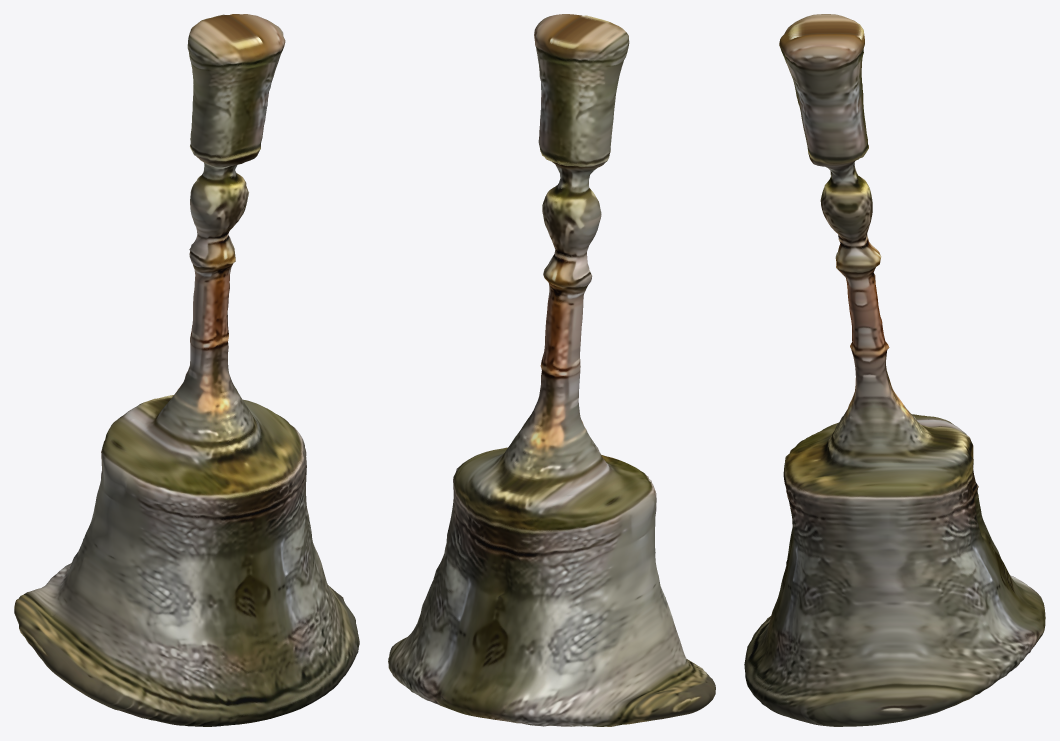
The model's file is kfl-2310.glb.
3 views of the same model, side by side, from view 1: azimuth 30°, elevation 25°; view 2: azimuth 150°, elevation 25°; view 3: azimuth 270°, elevation 25° (orthographic).
Visible parts, largest first — view 1: kfl-2310; view 2: kfl-2310; view 3: kfl-2310.
Part boxes in pixels (x1=…): kfl-2310: x1=14, y1=14, x2=359, y2=726; kfl-2310: x1=388, y1=14, x2=715, y2=726; kfl-2310: x1=744, y1=14, x2=1045, y2=726.
Size of the model in its own units: 0.4633 by 0.9991 by 0.4152.
Materials: 1 (1 with a texture image).
